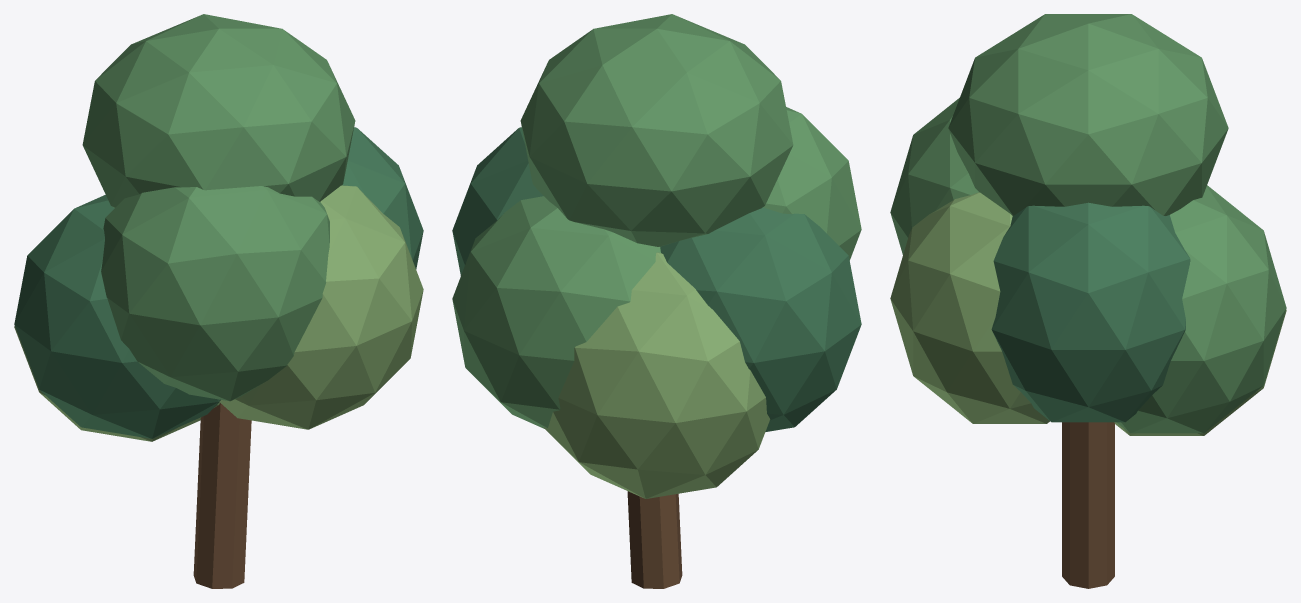
File: leafy_1.fbx
3 views of the same model, side by side, from view 1: azimuth 30°, elevation 25°; view 2: azimuth 150°, elevation 25°; view 3: azimuth 270°, elevation 25° (orthographic).
Parts seen in each view (by area): view 1: leafy_1; view 2: leafy_1; view 3: leafy_1.
Part boxes in pixels (x1=…): leafy_1: x1=14, y1=14, x2=423, y2=588; leafy_1: x1=452, y1=14, x2=861, y2=588; leafy_1: x1=890, y1=14, x2=1286, y2=588.
Bounding box in the file's own units: 524 × 742 × 481.
